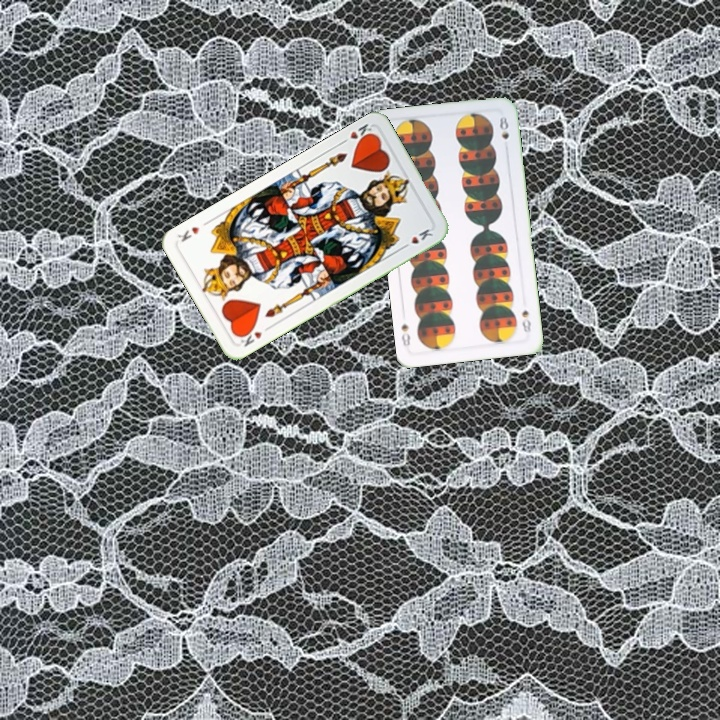HK: (337, 119, 377, 147), (235, 322, 273, 349)
S8: (518, 306, 533, 338)
